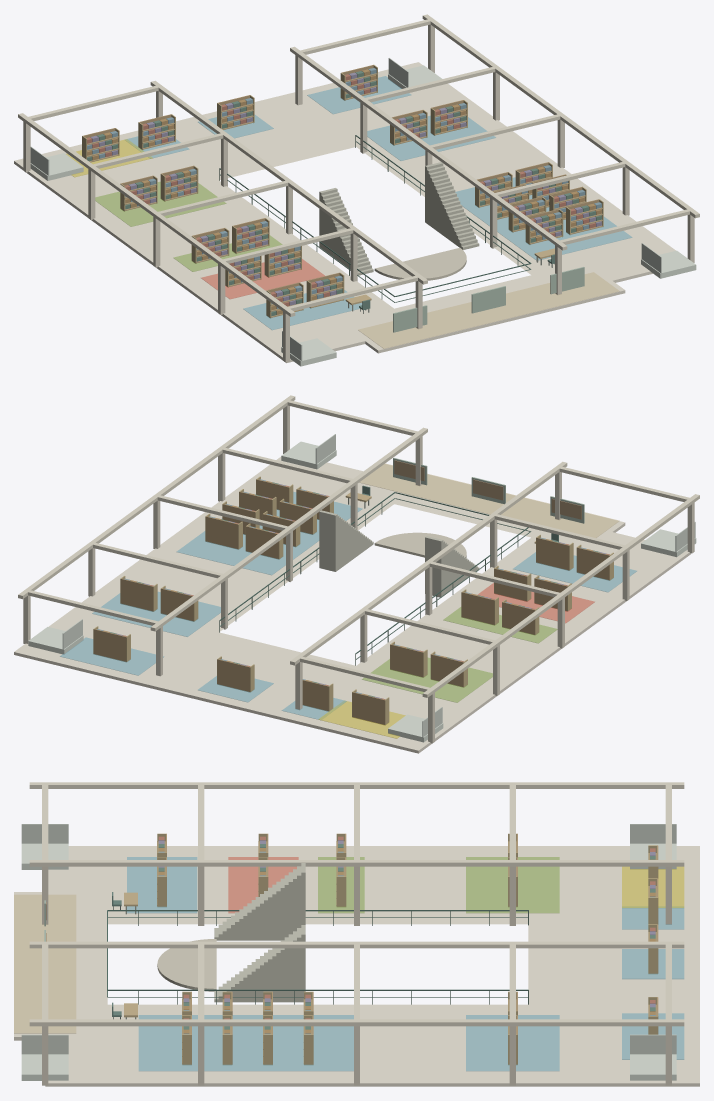
File: 图书馆_3楼_空间剖切.glb
The picture shows the model from 3 angles, top to bottom: view 1: azimuth 30°, elevation 25°; view 2: azimuth 150°, elevation 25°; view 3: azimuth 270°, elevation 25°; orthographic projection. The views are drawn at different scales.
Parts seen in each view (by area): view 1: guide_outline_floor_slab, guide_function_tint (×10), schematic_beam (×4), side_gallery_beam (×10), corner_service_room (×4), west_exhibition_panel (×3), photo_guided_curved_landing; view 2: guide_outline_floor_slab, guide_function_tint (×10), rack_back (×18), schematic_beam (×4), side_gallery_beam (×10), corner_service_room (×4), central_stair_tread (×2), photo_guided_curved_landing; view 3: guide_outline_floor_slab, guide_function_tint (×11), schematic_beam (×4), side_gallery_beam (×8), corner_service_room (×4), service_partition (×4), photo_guided_curved_landing, atrium_rail_top (×2).
Boxes of the visible parts, x1,y1,x2,y2 form: guide_outline_floor_slab: [14, 62, 675, 362]; guide_function_tint (×10): [66, 76, 632, 348]; schematic_beam (×4): [18, 14, 699, 316]; side_gallery_beam (×10): [27, 19, 690, 311]; corner_service_room (×4): [30, 65, 696, 366]; west_exhibition_panel (×3): [393, 267, 584, 332]; photo_guided_curved_landing: [374, 248, 466, 280]; guide_outline_floor_slab: [14, 456, 690, 753]; guide_function_tint (×10): [60, 463, 636, 738]; rack_back (×18): [93, 479, 609, 725]; schematic_beam (×4): [18, 395, 699, 697]; side_gallery_beam (×10): [26, 400, 690, 691]; corner_service_room (×4): [28, 441, 696, 742]; central_stair_tread (×2): [319, 510, 443, 597]; photo_guided_curved_landing: [374, 532, 466, 557]; guide_outline_floor_slab: [14, 846, 699, 1086]; guide_function_tint (×11): [14, 857, 684, 1071]; schematic_beam (×4): [29, 782, 684, 1026]; side_gallery_beam (×8): [42, 783, 671, 1020]; corner_service_room (×4): [21, 843, 676, 1080]; service_partition (×4): [21, 824, 676, 1054]; photo_guided_curved_landing: [157, 939, 216, 991]; atrium_rail_top (×2): [107, 910, 528, 990].
Bounding box in the file's own units: 36.42 × 4.9 × 44.
